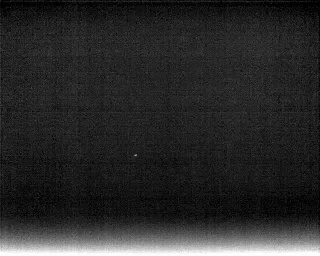AIRPLANE: (132, 151, 140, 160)
